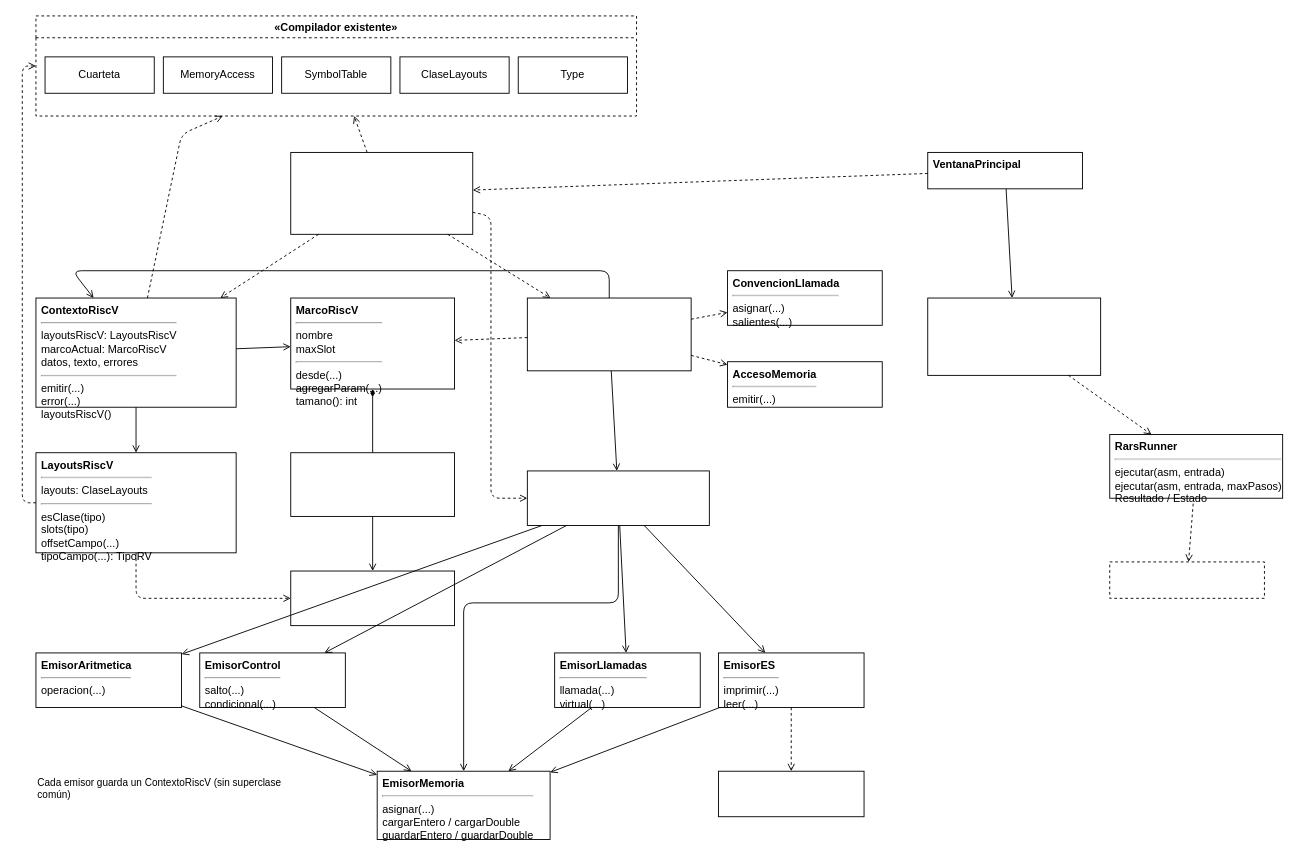
Some shapes in this 1299 by 859 pixel diagram are drawn without their labels. The shapes that lost their labels are listed below. From the top down, each one's centre as x and y in pixels, then its label:
At pixel 381 193: "RiscVCodeGenerator errores: List generate(...): String errores()".
At pixel 608 334: "GeneradorCuerpo ctx: ContextoRiscV emisor: RiscVEmisor generar(List<Cuarteta>)".
At pixel 1014 336: "PanelCodigoRISCV setContenido(...) guardar() ejecutarEnRARS() setAlEjecutar(...)".
At pixel 372 484: "MarcoRiscV.Param nombre tipo: TipoRV slot".
At pixel 617 498: "RiscVEmisor emitir(Cuarteta)".
At pixel 372 598: "«enum» TipoRV ENTERO, REF, CHAR, BOOL, DOBLE".
At pixel 1186 579: "RARS (biblioteca externa)".
At pixel 791 793: "RiscVFormato descomponer(...)".
